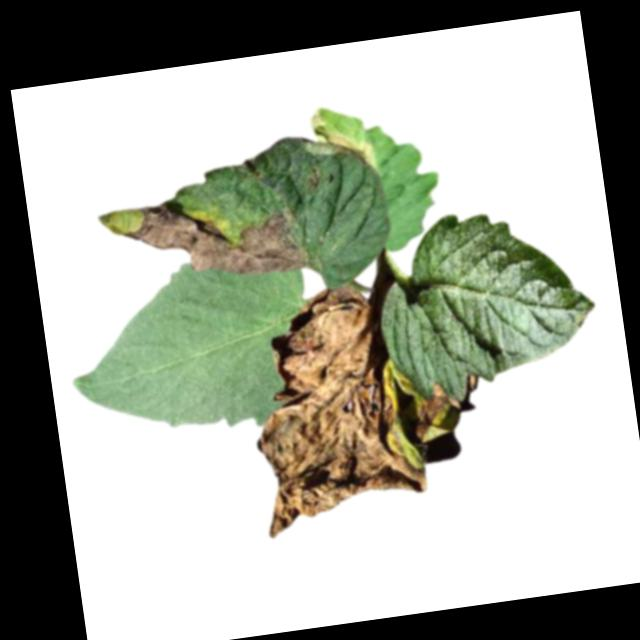Late_blight: (236, 277, 433, 540), (121, 181, 308, 294), (299, 101, 375, 176), (406, 380, 458, 441)
healthy: (57, 245, 327, 450), (365, 195, 610, 410)
